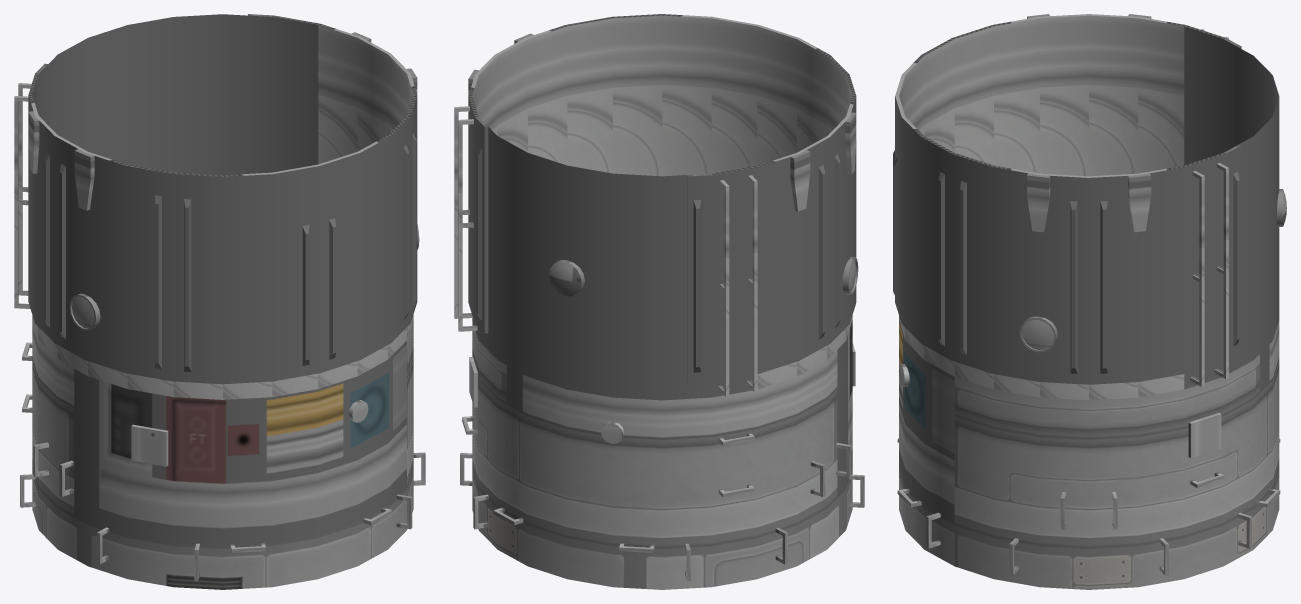
File: eridani_crew_s2_1_zvezda.obj
3 views of the same model, side by side, from view 1: azimuth 30°, elevation 25°; view 2: azimuth 150°, elevation 25°; view 3: azimuth 270°, elevation 25° (orthographic).
Visible parts, largest first — view 1: mesh1, windows1; view 2: mesh1; view 3: mesh1, windows1.
Boxes of the visible parts, x1,y1,x2,y2 form: mesh1: [14, 14, 425, 589]; windows1: [72, 296, 94, 328]; mesh1: [454, 14, 864, 589]; mesh1: [893, 14, 1286, 589]; windows1: [1022, 319, 1054, 349].
Size of the model in its own units: 2.66 by 3 by 2.59.
Materials: 2 (2 with a texture image).
